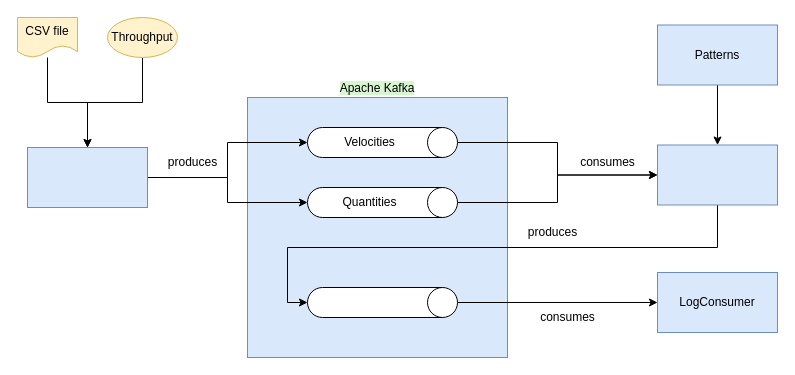
Some shapes in this 795 by 375 pixel diagram are drawn without their labels. The centre of each missing label's shape, as x and y in pixels:
"CSVProducer" belongs at point (87, 177).
"Matches" belongs at point (382, 302).
"Q6_Iter" belongs at point (717, 174).
